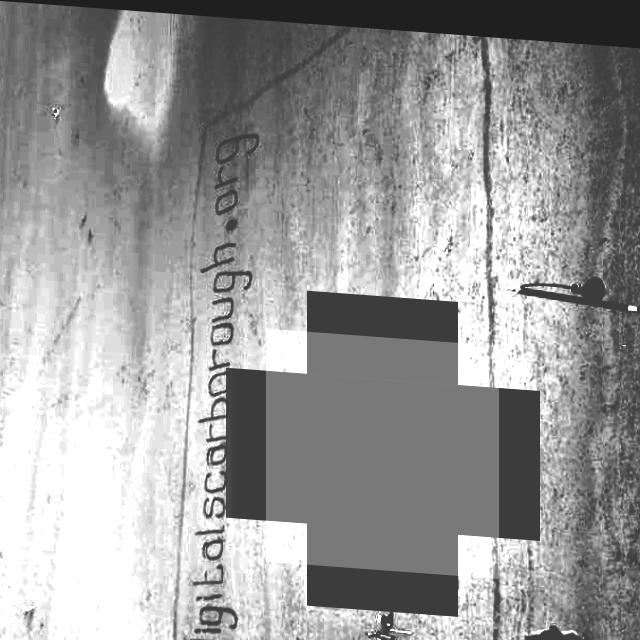qr_code: (266, 323, 499, 570)
